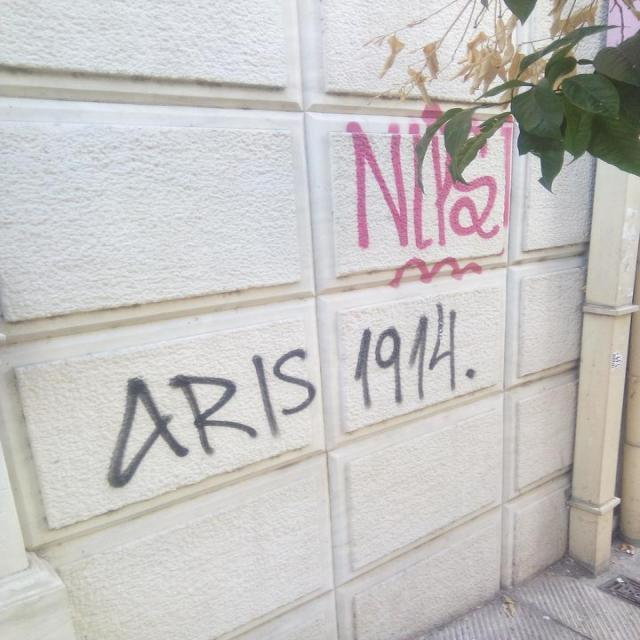nonspitting: (343, 102, 514, 288), (106, 349, 318, 489), (354, 301, 478, 407)
